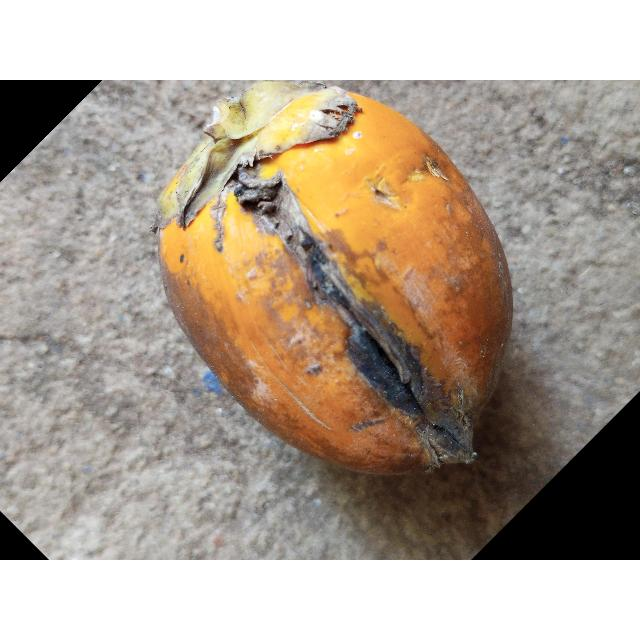damaged: (152, 81, 512, 474)
